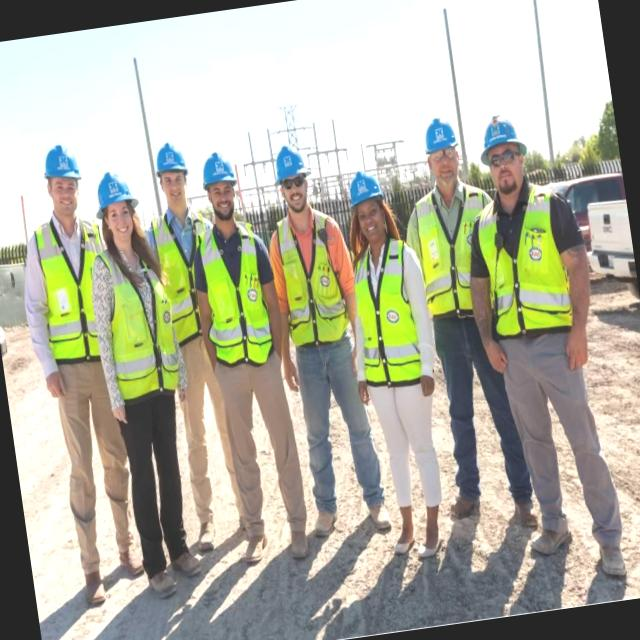goggles: (422, 140, 464, 168)
helmet: (468, 110, 532, 173), (87, 167, 142, 230), (266, 138, 315, 199), (414, 116, 467, 170), (146, 136, 196, 192), (197, 144, 244, 202), (342, 168, 391, 220), (36, 137, 82, 190)
no-goggles: (48, 173, 82, 204), (486, 146, 524, 172), (354, 198, 384, 230), (104, 202, 139, 225), (278, 174, 308, 196), (160, 172, 190, 192), (210, 184, 237, 202)
vest: (477, 202, 575, 338), (104, 250, 182, 400), (32, 218, 112, 360), (410, 190, 490, 316), (353, 245, 425, 384), (199, 228, 271, 364), (275, 215, 348, 346), (148, 212, 214, 344)
